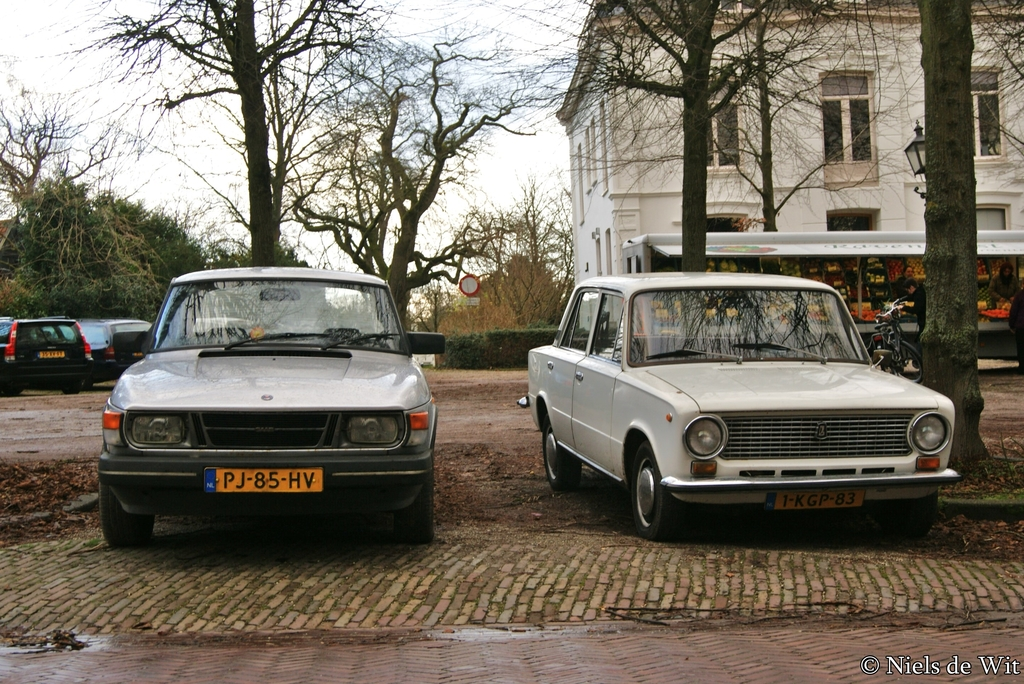Car: (517, 272, 963, 538), (97, 265, 446, 548), (0, 316, 94, 396), (68, 318, 152, 390), (153, 315, 250, 336)
